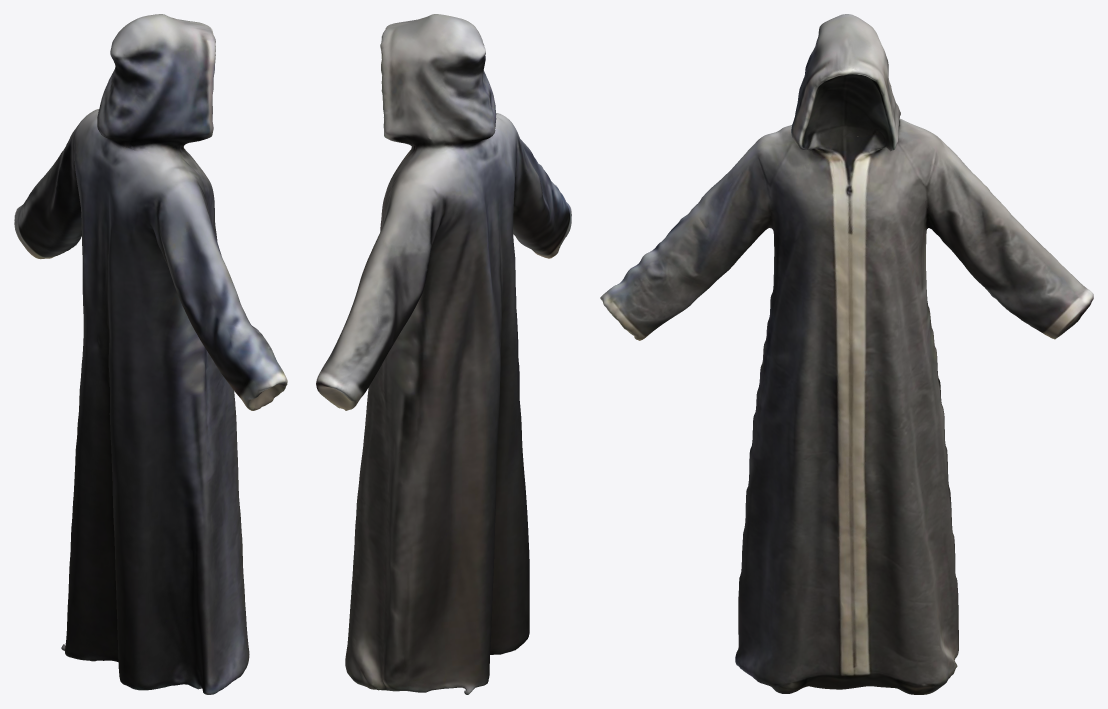
The model's file is thobDress.glb.
3 renders of one model, left to right at view 1: azimuth 30°, elevation 25°; view 2: azimuth 150°, elevation 25°; view 3: azimuth 270°, elevation 25°, orthographic.
Parts seen in each view (by area): view 1: tripo_node_550101ca-bc4b-4b72-9856-078b3b787ef7; view 2: tripo_node_550101ca-bc4b-4b72-9856-078b3b787ef7; view 3: tripo_node_550101ca-bc4b-4b72-9856-078b3b787ef7.
Boxes of the visible parts, x1,y1,x2,y2 form: tripo_node_550101ca-bc4b-4b72-9856-078b3b787ef7: [14, 14, 287, 694]; tripo_node_550101ca-bc4b-4b72-9856-078b3b787ef7: [316, 14, 571, 694]; tripo_node_550101ca-bc4b-4b72-9856-078b3b787ef7: [600, 14, 1093, 694].
Bounding box in the file's own units: 0.189 × 0.8918 × 0.6099.
1 material, 1 textured.
